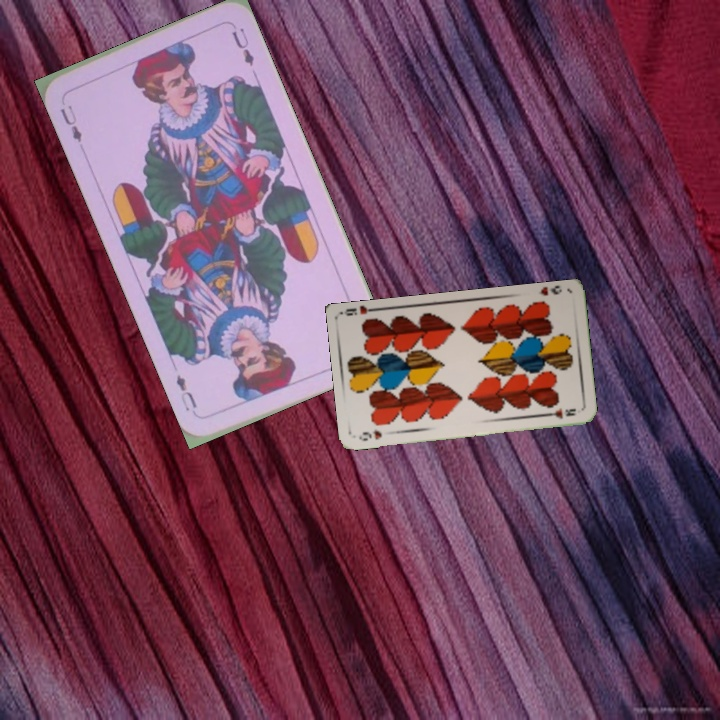EU: (56, 101, 85, 145)
H9: (355, 426, 384, 443), (536, 283, 564, 298)
